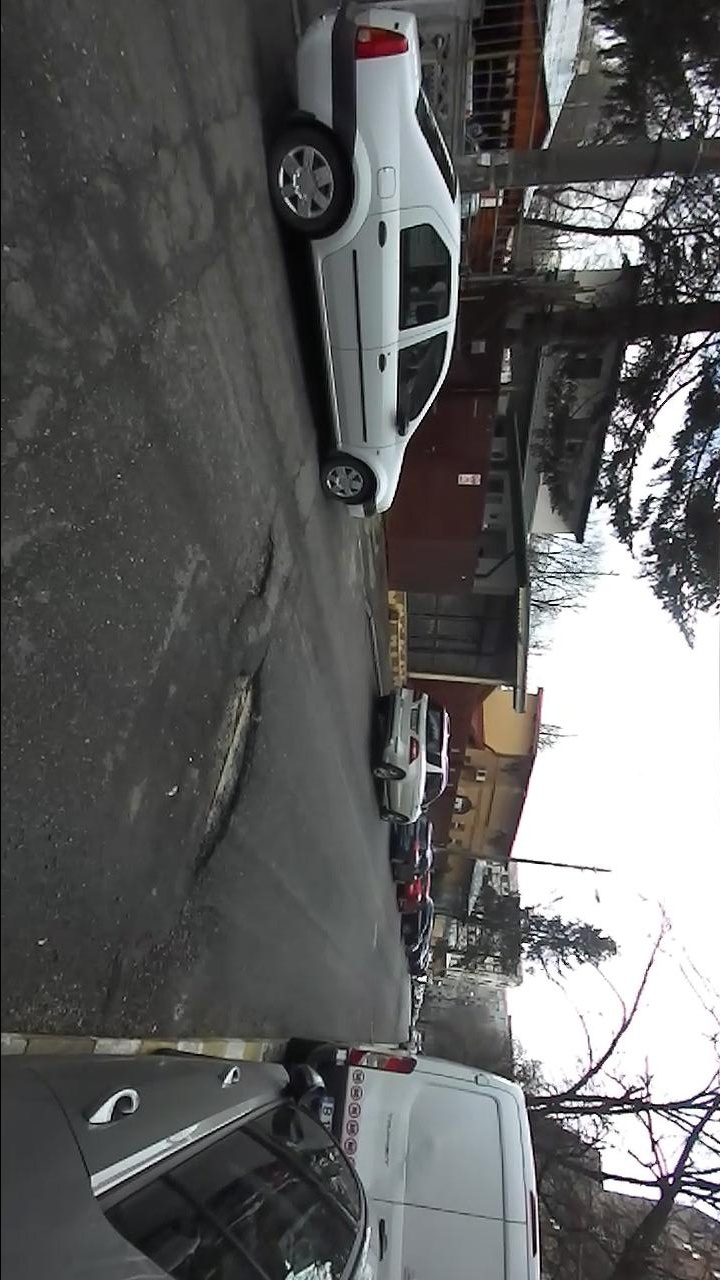pothole: (182, 643, 274, 891), (232, 524, 282, 629)
